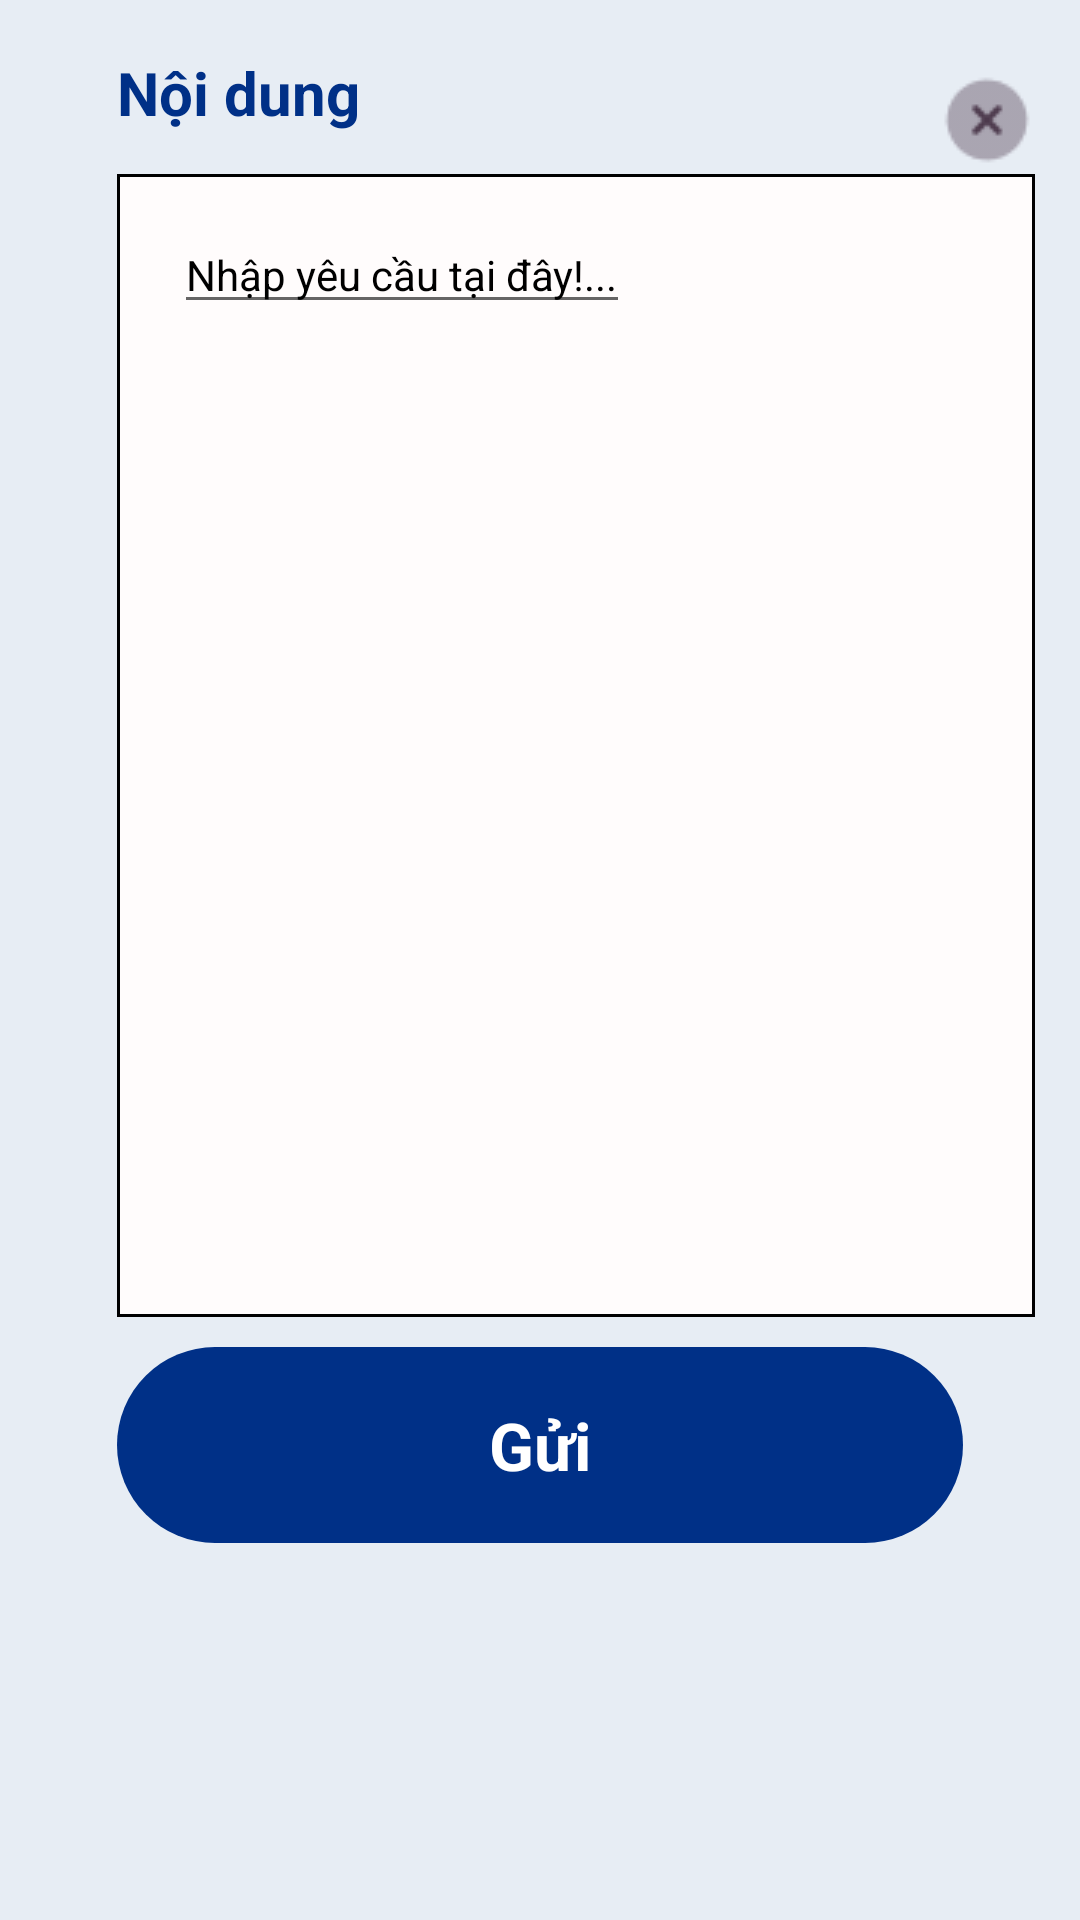

Icon click points for this 1080*1920 phone screenshot, format (x=x, y=y):
Đóng dialog: (x=987, y=120)
